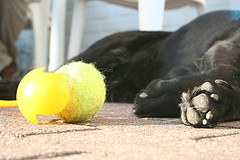tennis ball: (53, 59, 107, 123)
